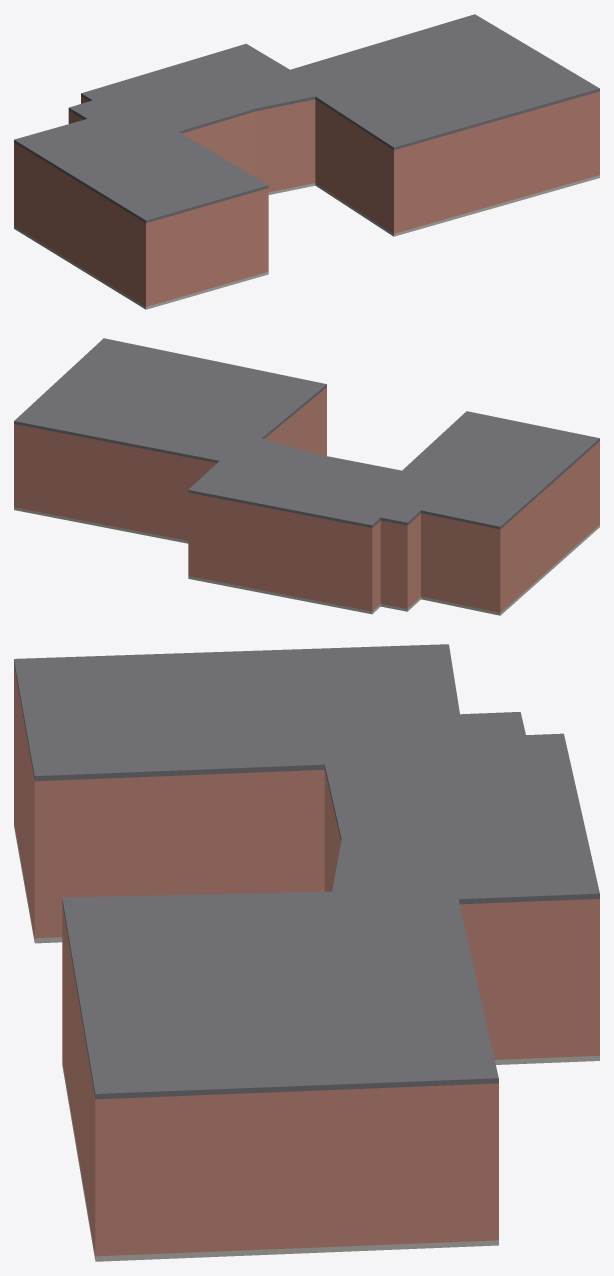
Rendered from visitor_center.glb.
The picture shows the model from 3 angles, top to bottom: view 1: azimuth 30°, elevation 25°; view 2: azimuth 150°, elevation 25°; view 3: azimuth 270°, elevation 25°; orthographic projection. The views are drawn at different scales.
Parts seen in each view (by area): view 1: visitor_center_walls, visitor_center_roof, visitor_center_plinth; view 2: visitor_center_walls, visitor_center_roof, visitor_center_plinth; view 3: visitor_center_roof, visitor_center_walls, visitor_center_plinth.
Part boxes in pixels (x1,y1,x2,y2): visitor_center_walls: (14, 91, 599, 306); visitor_center_roof: (14, 14, 599, 223); visitor_center_plinth: (14, 175, 599, 309); visitor_center_walls: (14, 387, 599, 612); visitor_center_roof: (14, 338, 599, 529); visitor_center_plinth: (14, 507, 599, 615); visitor_center_roof: (14, 644, 599, 1099); visitor_center_walls: (14, 665, 599, 1256); visitor_center_plinth: (14, 822, 599, 1261).
Bounding box in the file's own units: 55.36 × 9.62 × 30.46.
